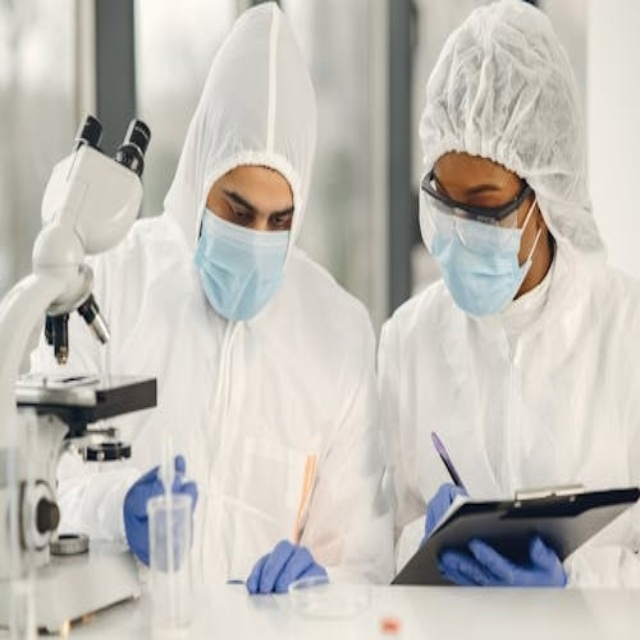Gafas: (421, 168, 533, 229)
Guantes: (123, 458, 197, 571), (448, 535, 566, 588), (243, 540, 328, 594), (423, 482, 467, 543)
Mascara: (413, 183, 547, 321), (189, 198, 294, 327)
Sin_gafas: (212, 185, 289, 234)
